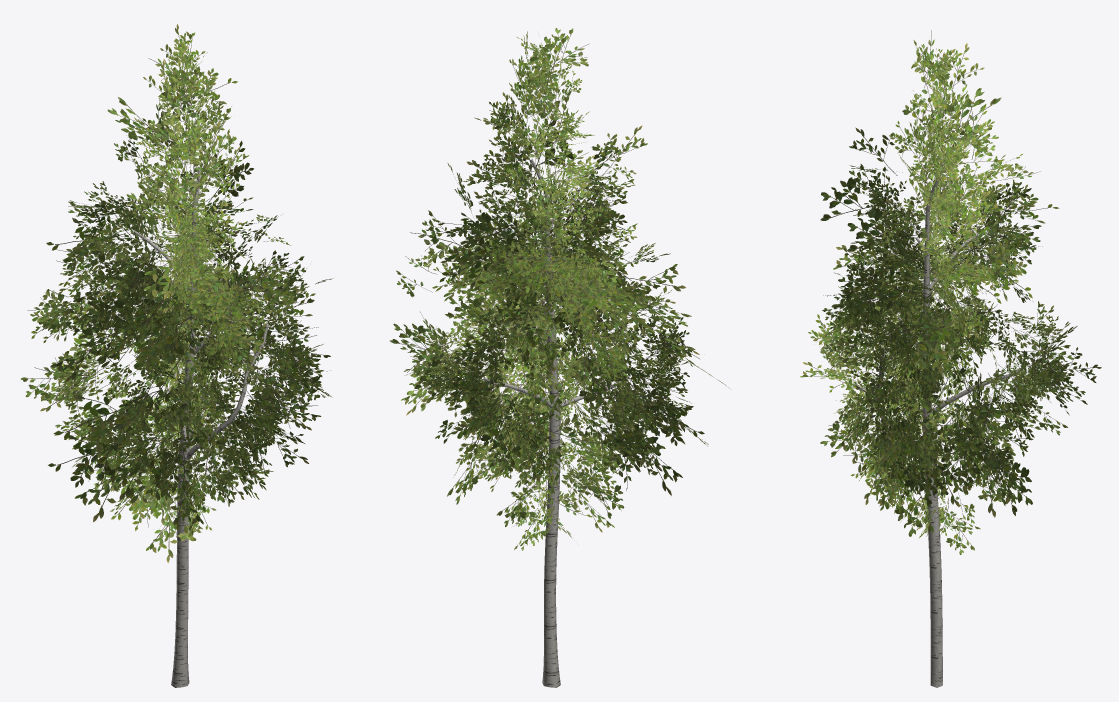
File: tree_birch_v0_l0.glb
The picture shows the model from 3 angles, left to right: view 1: azimuth 30°, elevation 25°; view 2: azimuth 150°, elevation 25°; view 3: azimuth 270°, elevation 25°; orthographic projection.
Visible parts, largest first — view 1: tree_birch_v0_l0; view 2: tree_birch_v0_l0; view 3: tree_birch_v0_l0.
Boxes of the visible parts, left/top/right/bottom form: tree_birch_v0_l0: left=20, top=24, right=332, bottom=687; tree_birch_v0_l0: left=389, top=28, right=729, bottom=687; tree_birch_v0_l0: left=800, top=30, right=1101, bottom=687.
Size of the model in its own units: 5.98 by 11.61 by 5.21.
2 materials, 2 textured.
